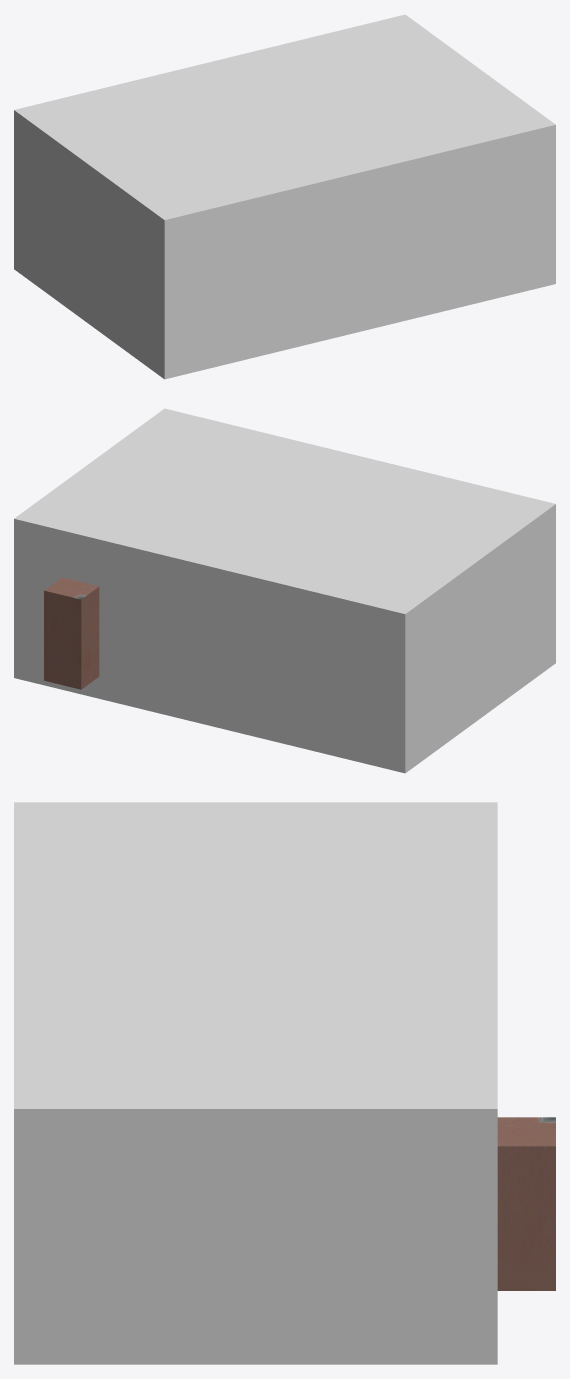
Rendered from Bedroom.fbx.
The picture shows the model from 3 angles, top to bottom: view 1: azimuth 30°, elevation 25°; view 2: azimuth 150°, elevation 25°; view 3: azimuth 270°, elevation 25°; orthographic projection. The views are drawn at different scales.
Parts seen in each view (by area): view 1: Floor.001, Wall3, Wall1, Wall4; view 2: Floor.001, Wall2, Wall1, Bool, Wall4; view 3: Floor.001, Wall4, Bool.
Boxes of the visible parts, x1,y1,x2,y2 form: Floor.001: [14, 14, 555, 242]; Wall3: [186, 153, 534, 373]; Wall1: [14, 133, 186, 379]; Wall4: [534, 147, 555, 289]; Floor.001: [14, 408, 555, 636]; Wall2: [35, 547, 383, 767]; Wall1: [383, 527, 555, 773]; Bool: [44, 577, 99, 689]; Wall4: [14, 541, 35, 683]; Floor.001: [14, 802, 497, 1145]; Wall4: [14, 1145, 497, 1364]; Bool: [497, 1117, 555, 1290].
Bounding box in the file's own units: 3600 × 1400 × 2689.
